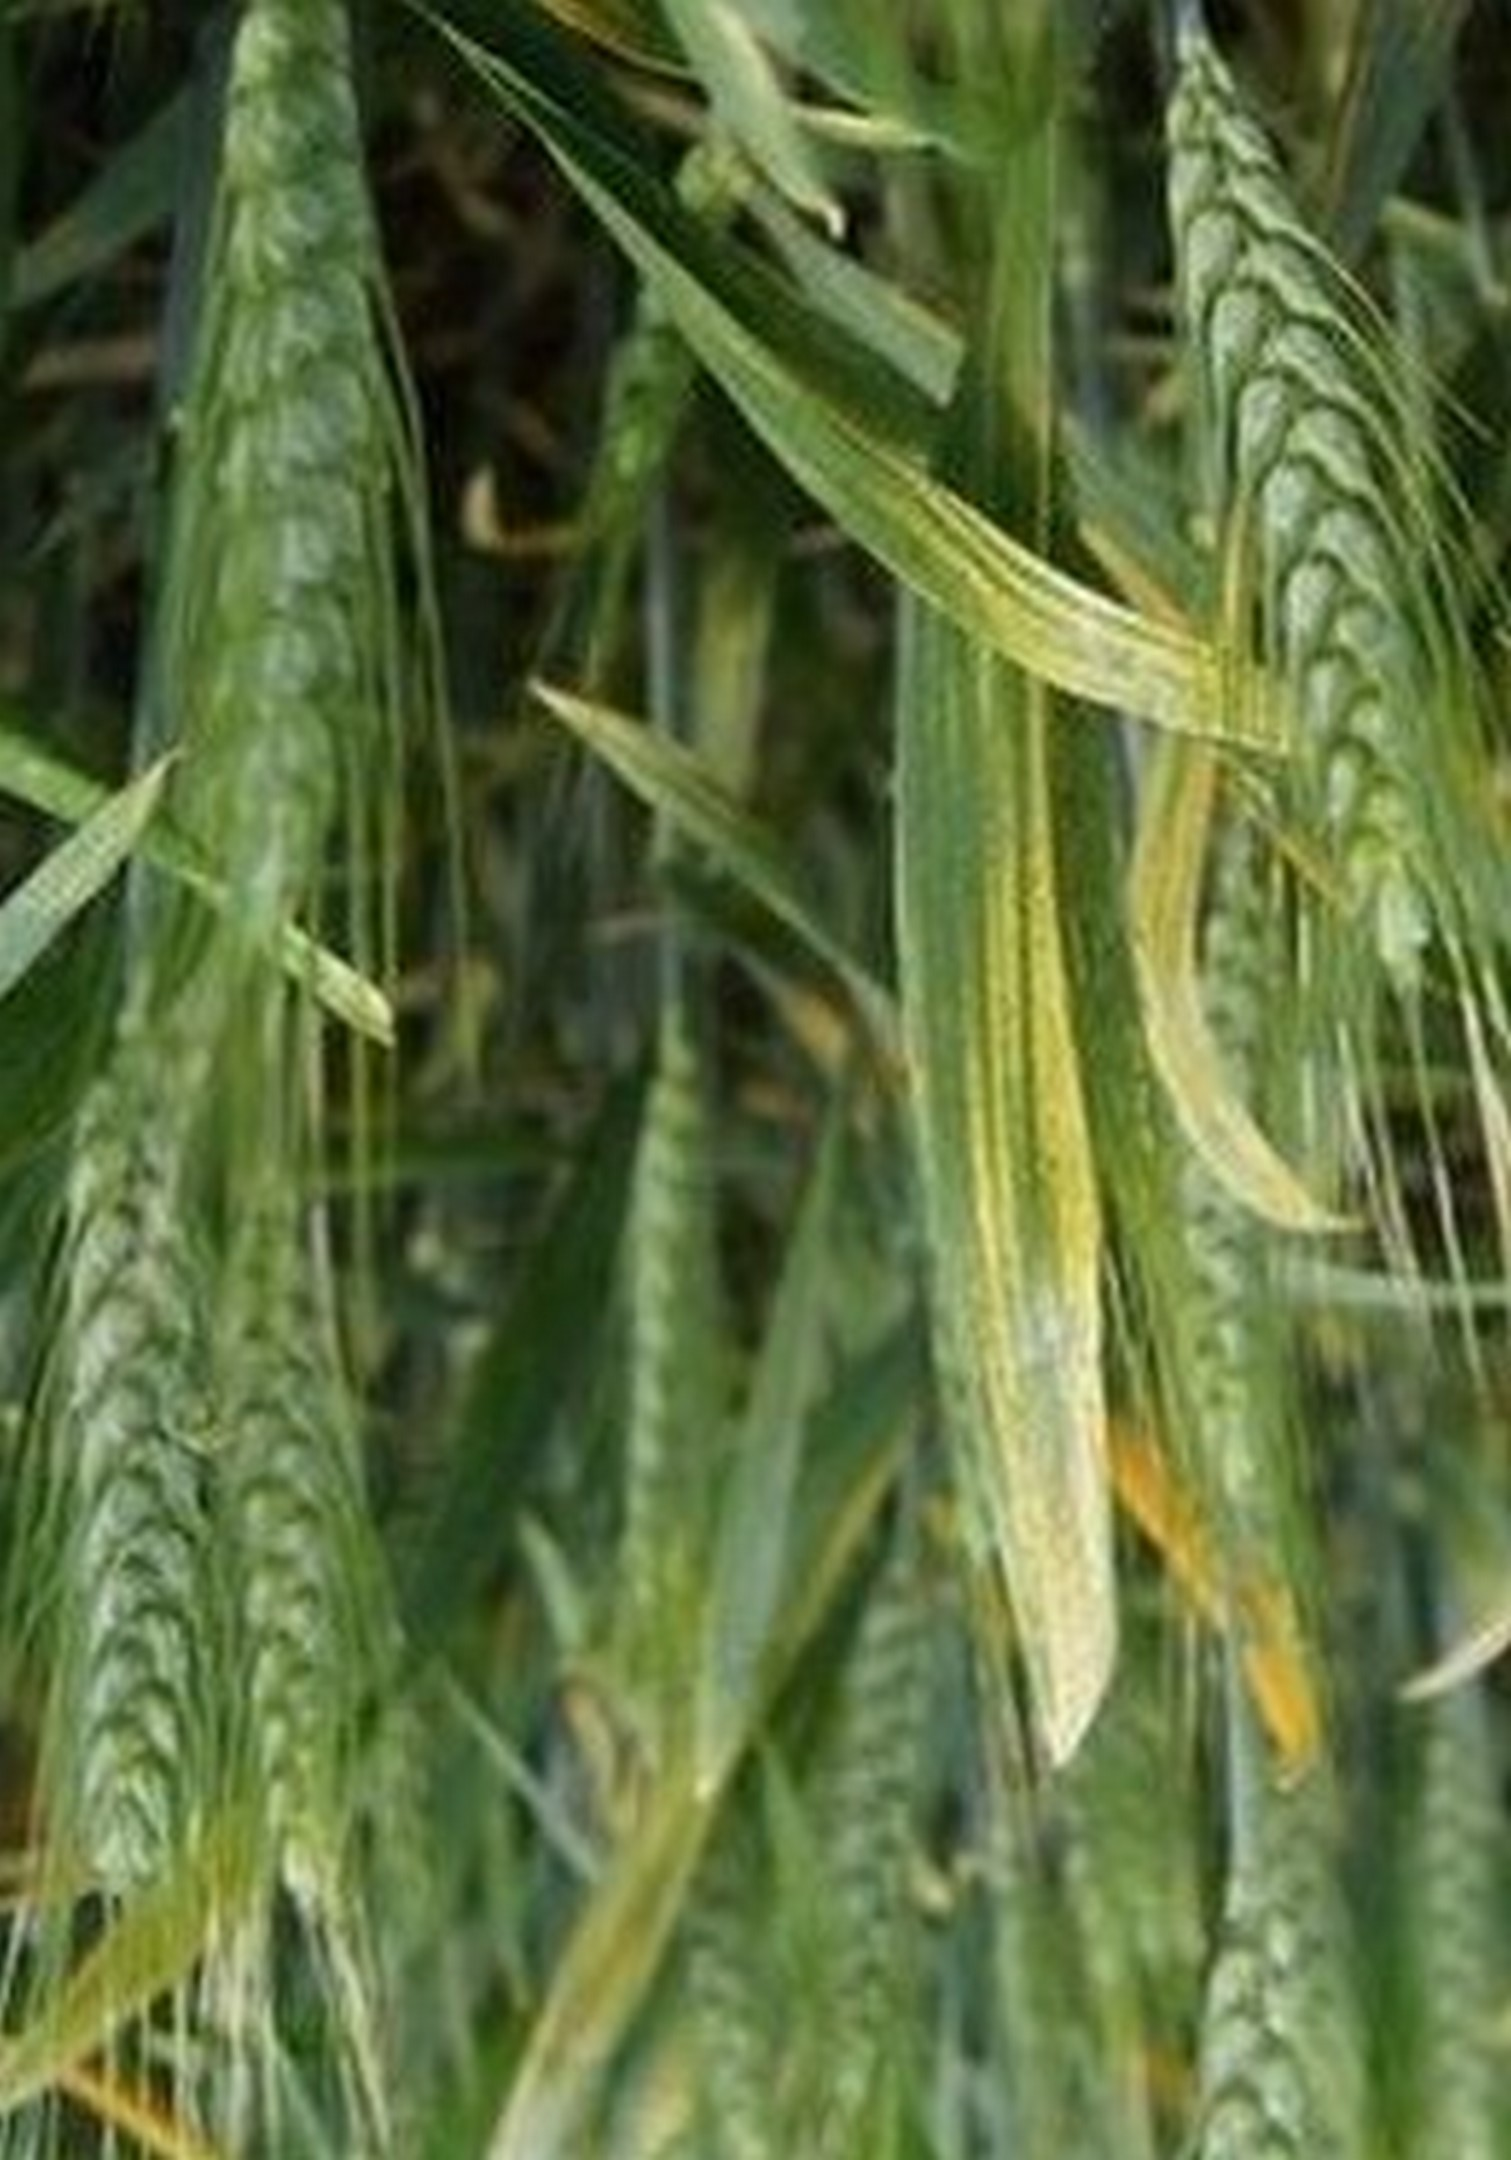Healthy Wheat: (1135, 53, 1511, 918), (39, 1075, 267, 1906)
